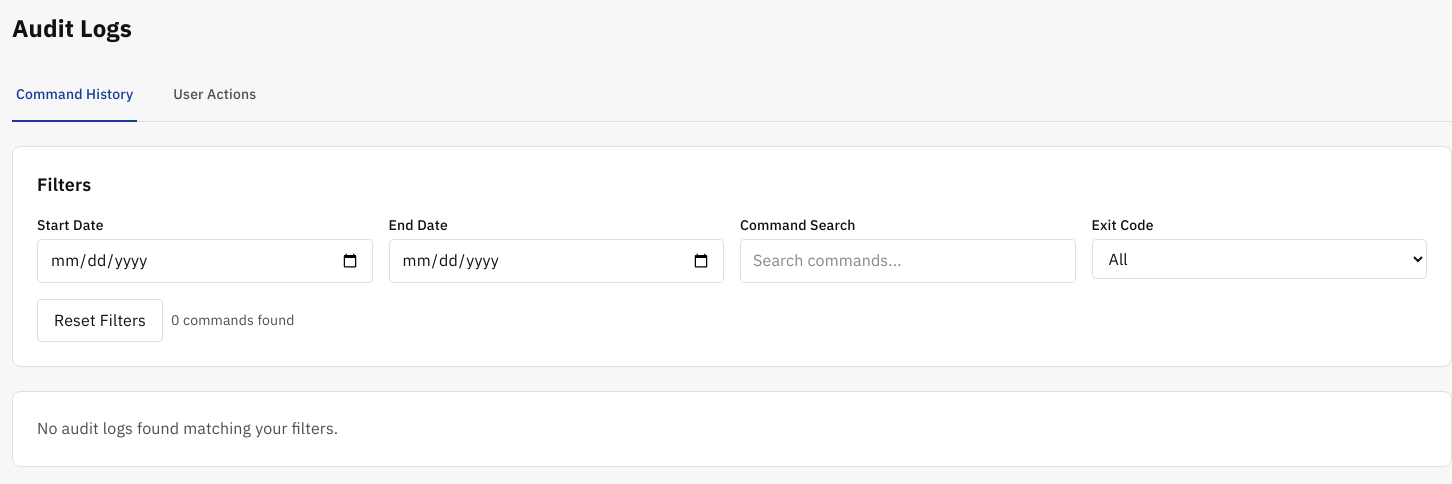
Test case: Audit › should show empty state for user audit logs when no logs
The width and height of the screenshot is (1452, 484).
Click the button "User Actions". click: [215, 95]
box: [169,68,260,122]
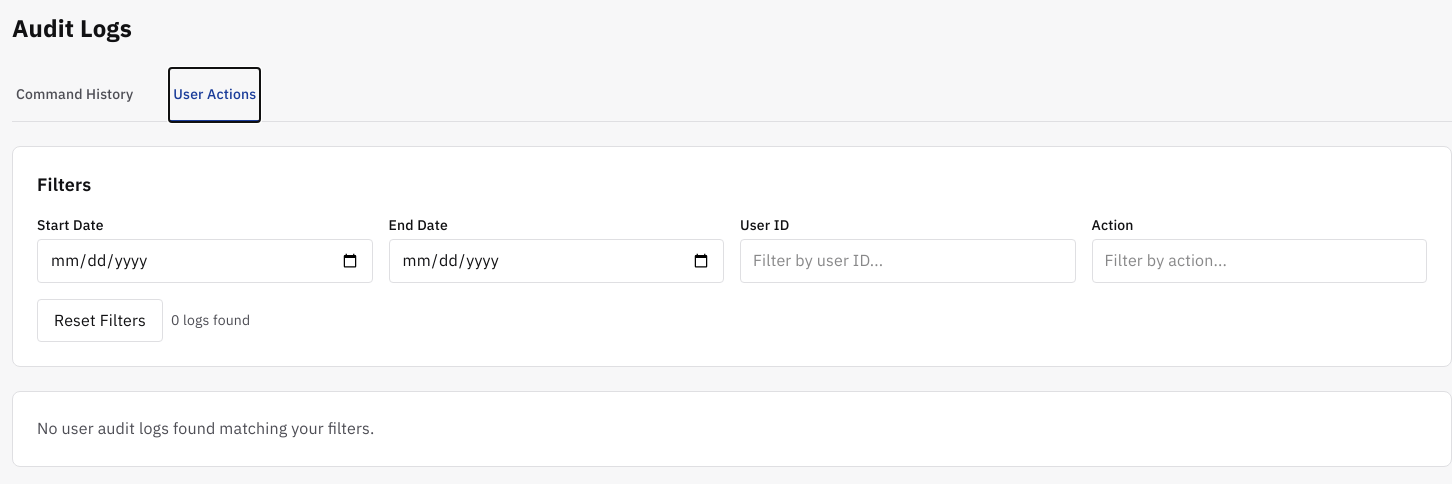
Check: the text "No user audit logs found matching your filters." is shown, box [37,418,374,438]
